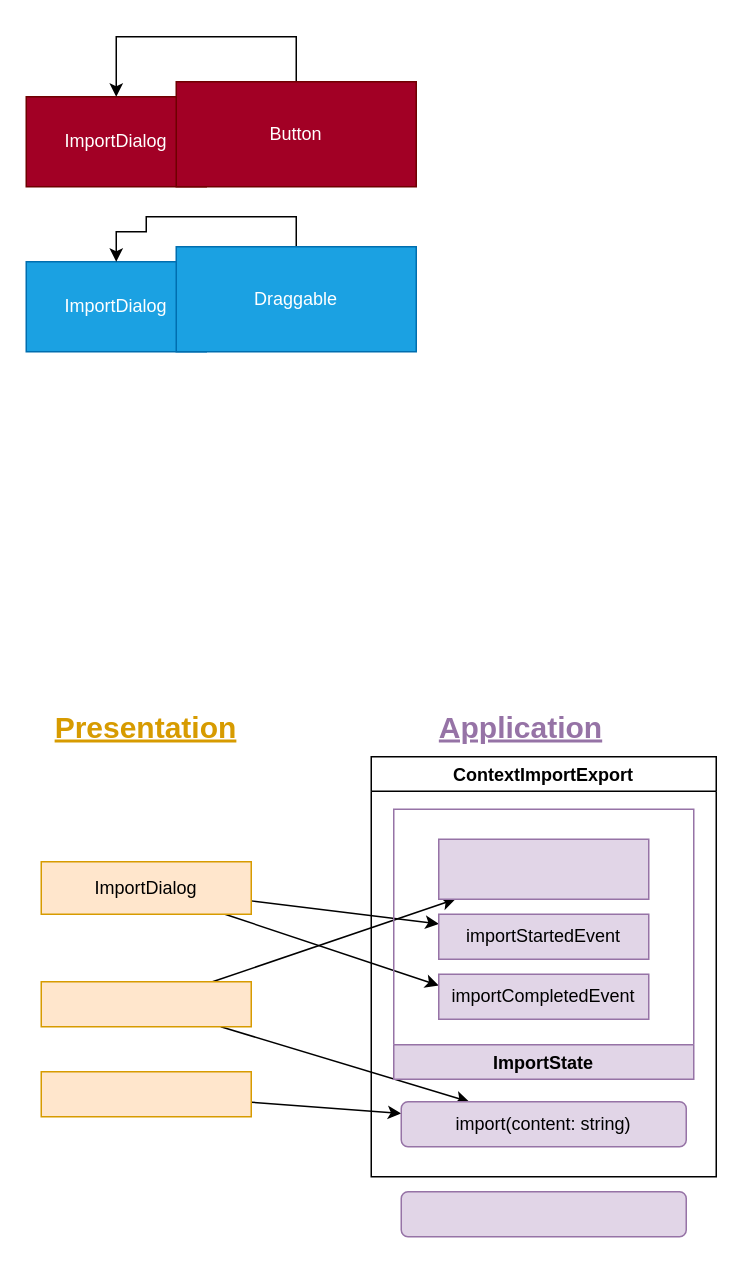
Some shapes in this 743 by 1263 pixel diagram are drawn without their labels. The shapes that lost their labels are listed below. From the top down, each one's centre as x and y in pixels, then its label:
At [543,868]: "isImporting: boolean".
At [145,1003]: "DraggableComponent".
At [145,1093]: "ImportButton".
At [543,1213]: "export(): string".
